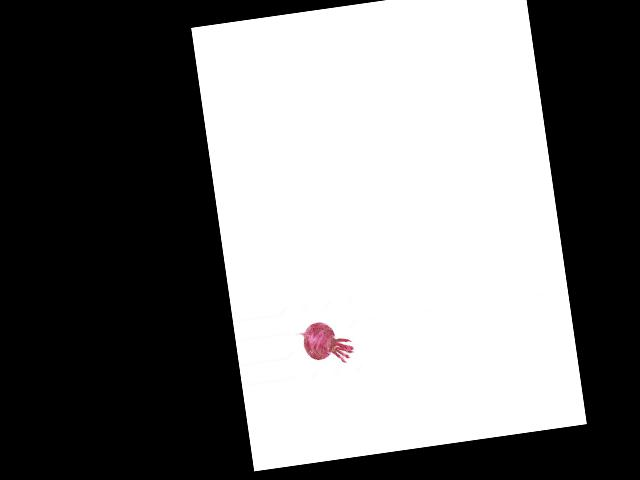beet: (294, 317, 355, 369)
